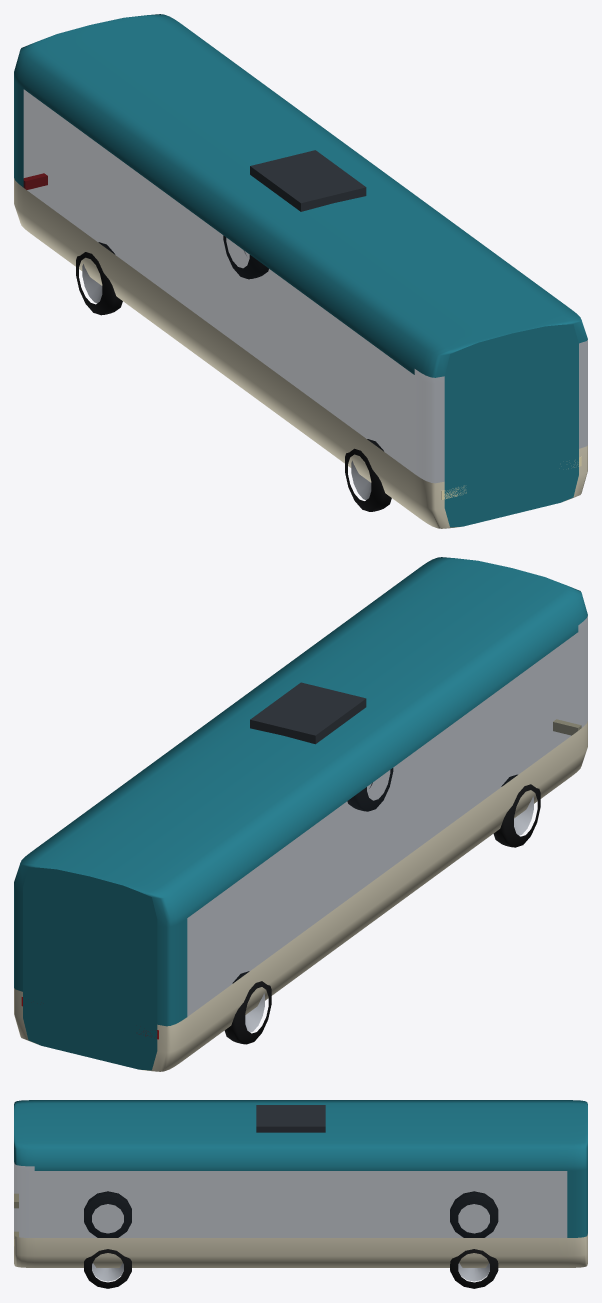
File: mobile.glb
3 renders of one model, top to bottom at view 1: azimuth 30°, elevation 25°; view 2: azimuth 150°, elevation 25°; view 3: azimuth 270°, elevation 25°, orthographic. The views are drawn at different scales.
Visible parts, largest first — view 1: body, glass, tyre_rr, tyre_fr; view 2: body, glass, tyre_rr, tyre_fr; view 3: body, glass, tyre_rr, tyre_fr, tyre_rl, tyre_fl, rim_rl, rim_fl.
Part boxes in pixels (x1,y1,x2,y2): body: [14, 14, 587, 528]; glass: [23, 89, 587, 483]; tyre_rr: [76, 242, 122, 315]; tyre_fr: [345, 439, 391, 511]; body: [14, 557, 587, 1071]; glass: [187, 616, 587, 1016]; tyre_rr: [224, 971, 271, 1044]; tyre_fr: [493, 774, 540, 847]; body: [14, 1100, 587, 1267]; glass: [14, 1162, 567, 1237]; tyre_rr: [450, 1191, 498, 1237]; tyre_fr: [84, 1191, 131, 1237]; tyre_rl: [450, 1249, 498, 1288]; tyre_fl: [84, 1249, 131, 1288]; rim_rl: [458, 1263, 489, 1281]; rim_fl: [92, 1263, 123, 1281].
Size of what is drawn, in the model's own units: 2.64 by 3.27 by 11.6.
